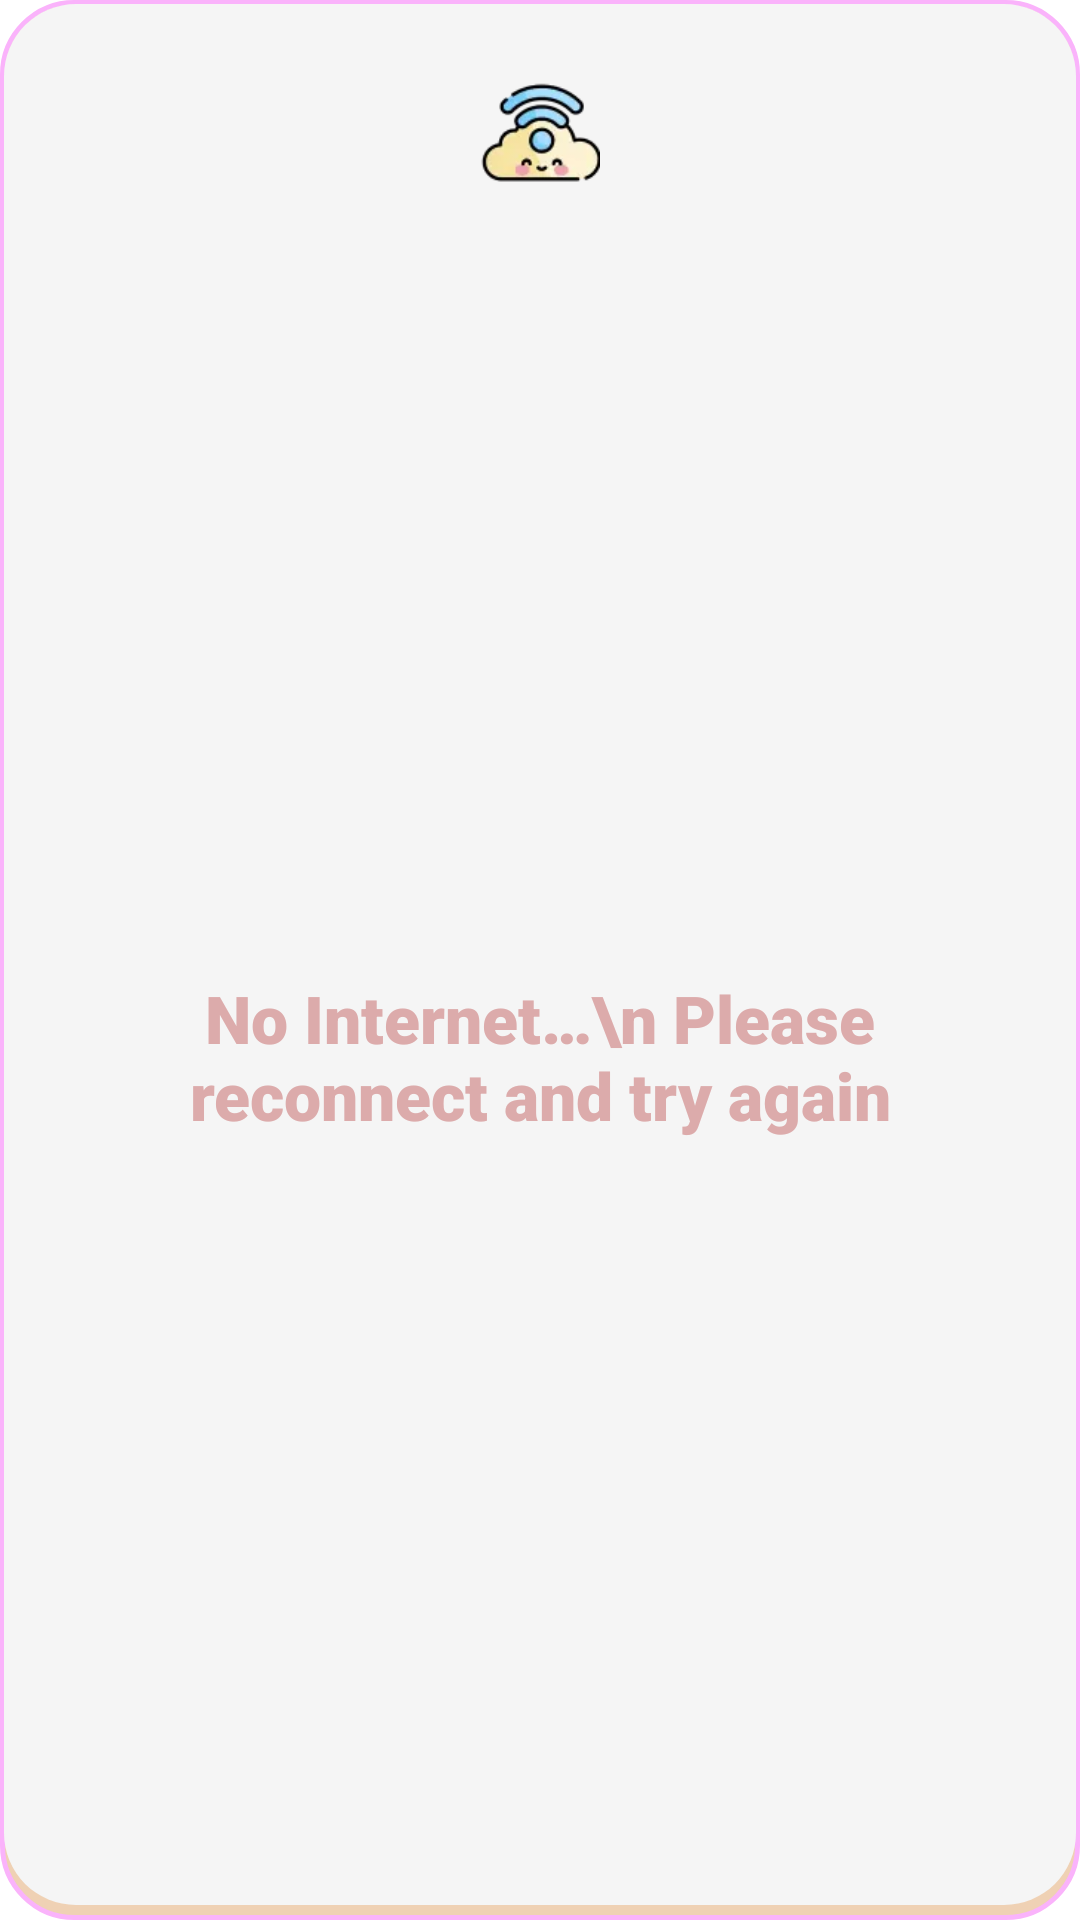

Named icons in this screenshot (1080px x 1920px) and their centers, (x=x, y=y):
network error: (x=540, y=132)
